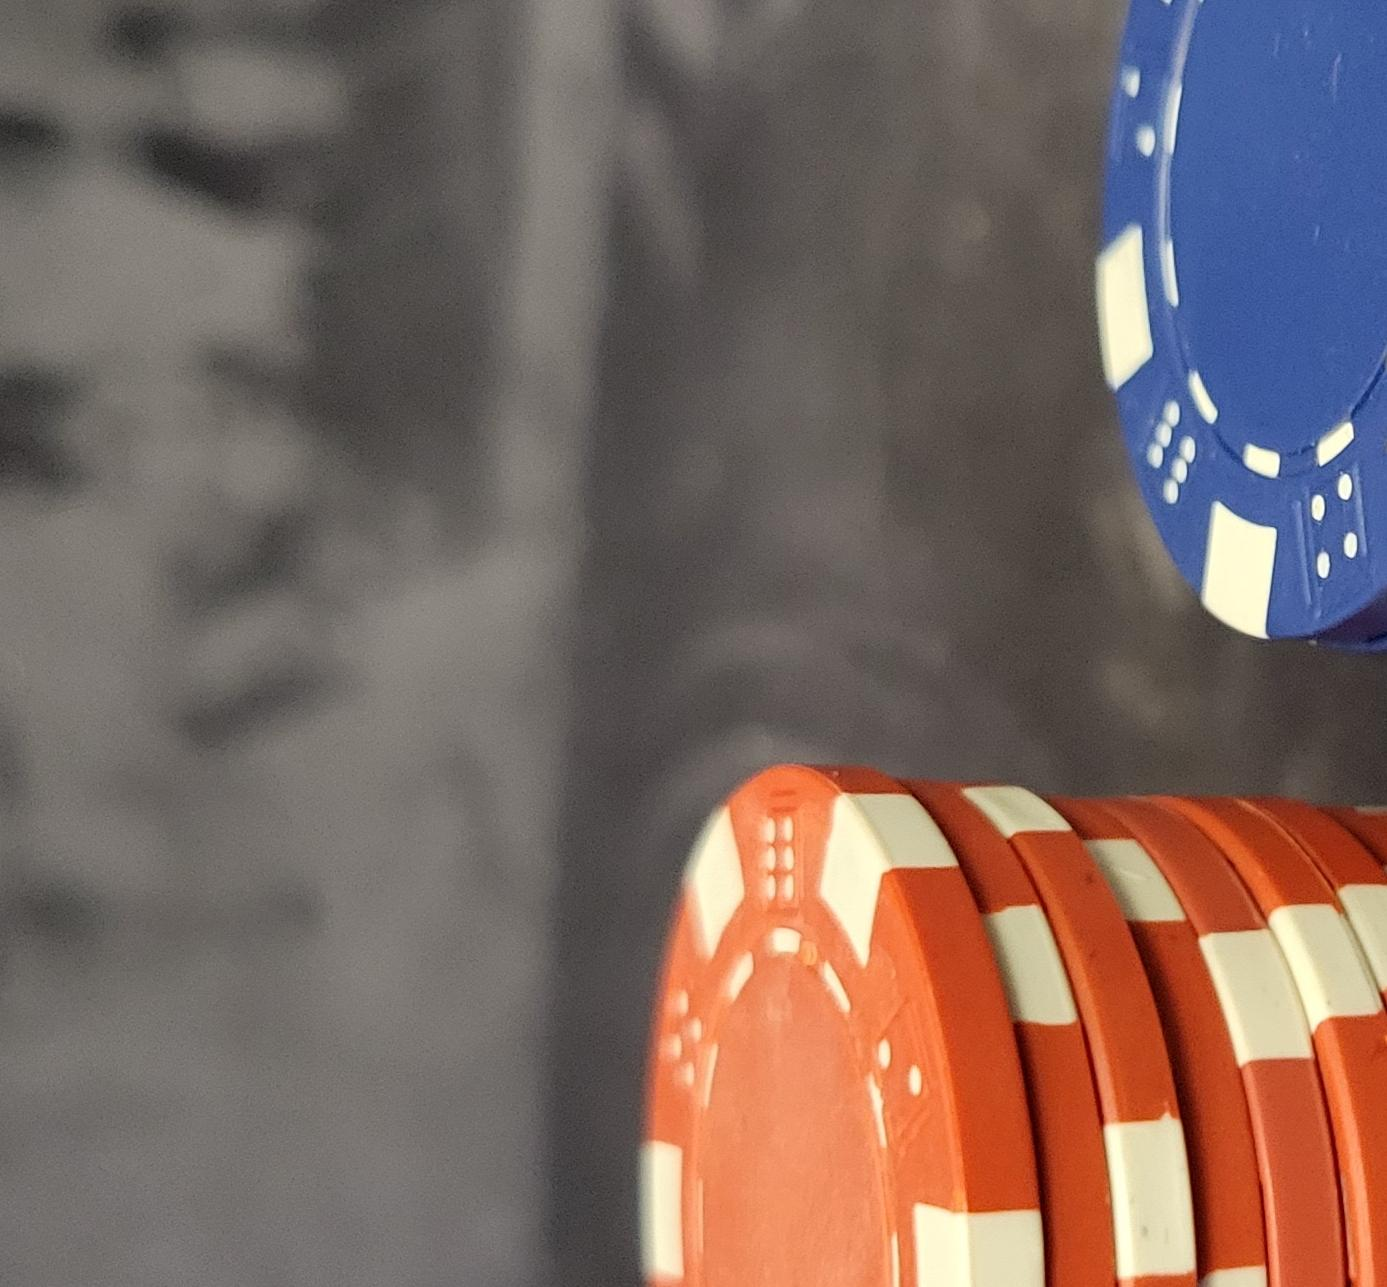Chip: (1, 259, 890, 1287)
